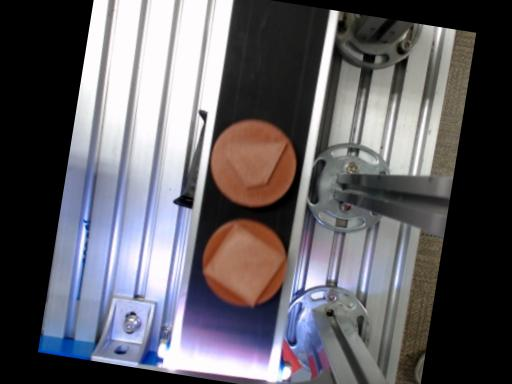Brown_Waper: (209, 118, 295, 207), (201, 218, 284, 307)
